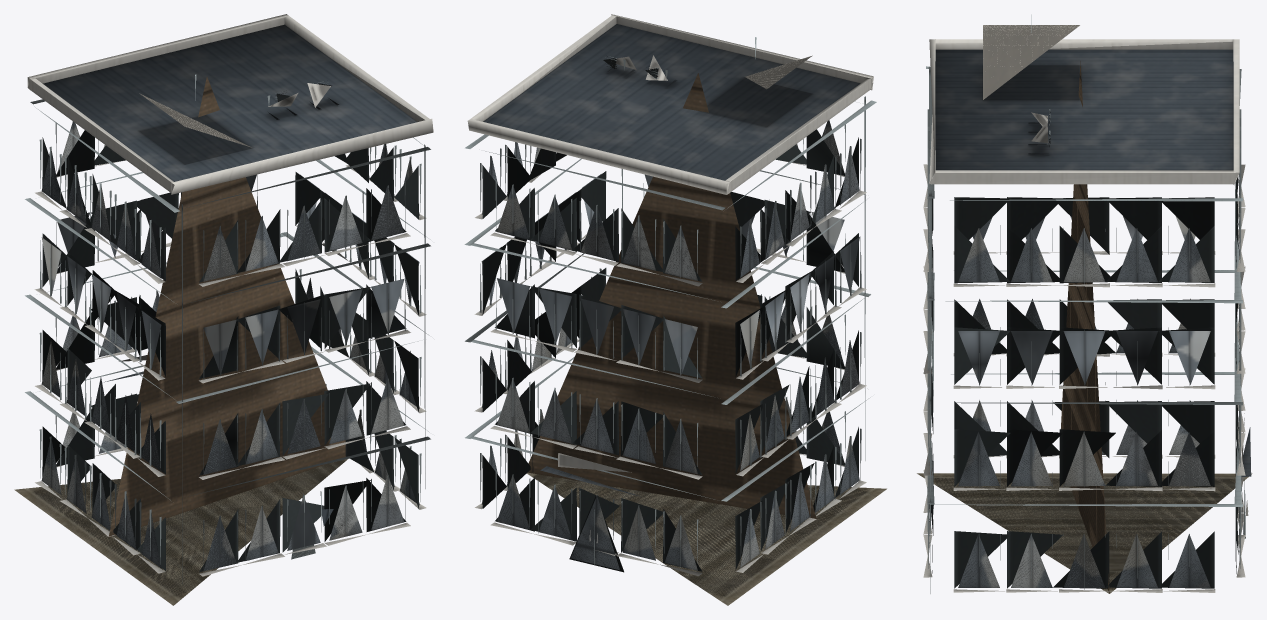
The model's file is office_001.lod2.obj.
3 renders of one model, left to right at view 1: azimuth 30°, elevation 25°; view 2: azimuth 150°, elevation 25°; view 3: azimuth 270°, elevation 25°, orthographic. The views are drawn at different scales.
Parts seen in each view (by area): view 1: office_001; view 2: office_001; view 3: office_001.
Part boxes in pixels (x1,y1,x2,y2): office_001: (14, 14, 433, 605); office_001: (464, 14, 886, 605); office_001: (917, 14, 1252, 593).
Bounding box in the file's own units: 8.74 × 14.57 × 8.9.
1 material, 1 textured.
